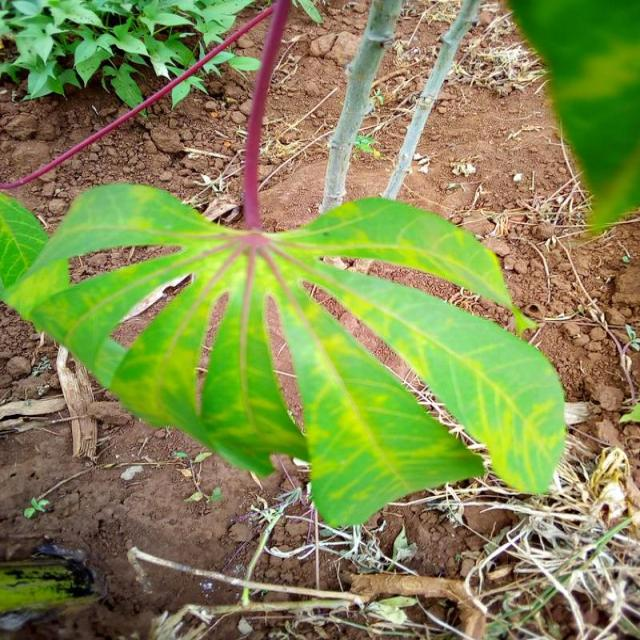cassava leaf: (2, 179, 566, 527)
